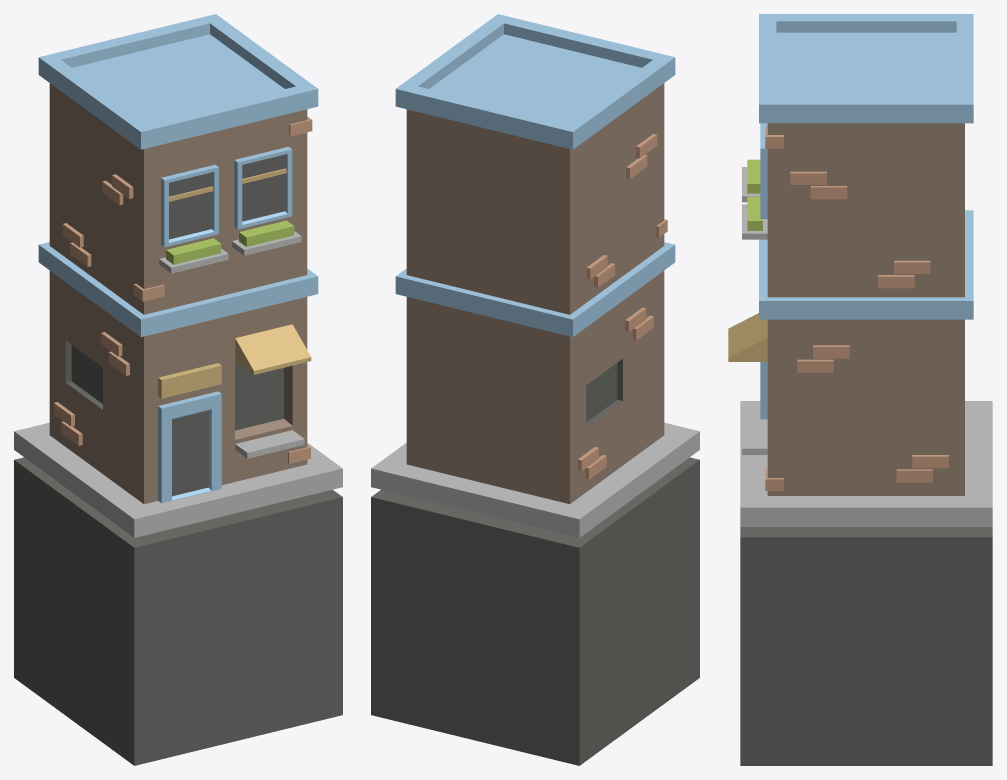
Rendered from house_Block_2F_b.fbx.
The picture shows the model from 3 angles, left to right: view 1: azimuth 30°, elevation 25°; view 2: azimuth 150°, elevation 25°; view 3: azimuth 270°, elevation 25°; orthographic projection. The views are drawn at different scales.
Parts seen in each view (by area): view 1: floor_base, polySurface6, polySurface34, house3, house, house2, polySurface4, polySurface44, polySurface35, polySurface8, polySurface5, polySurface9 (+4 smaller); view 2: floor_base, polySurface6, polySurface34, house3, house, house2; view 3: floor_base, polySurface6, polySurface34, house3, house, house2, polySurface8, polySurface9, polySurface44, polySurface51, polySurface50, polySurface53 (+8 smaller).
Part boxes in pixels (<box>): floor_base: <box>14,457,342,765</box>; polySurface6: <box>49,271,307,504</box>; polySurface34: <box>49,83,307,314</box>; house3: <box>38,14,318,149</box>; house: <box>14,422,342,537</box>; house2: <box>38,242,318,336</box>; polySurface4: <box>158,391,221,503</box>; polySurface44: <box>234,146,292,229</box>; polySurface35: <box>161,164,218,247</box>; polySurface8: <box>235,324,311,374</box>; polySurface5: <box>158,363,221,398</box>; polySurface9: <box>235,430,304,458</box>; floor_base: <box>371,457,699,765</box>; polySurface6: <box>406,271,664,504</box>; polySurface34: <box>406,83,664,314</box>; house3: <box>395,14,675,149</box>; house: <box>371,422,699,537</box>; house2: <box>395,242,675,336</box>; floor_base: <box>740,527,992,765</box>; polySurface6: <box>767,319,964,495</box>; polySurface34: <box>767,123,964,297</box>; house3: <box>759,14,973,123</box>; house: <box>740,401,992,526</box>; house2: <box>759,210,973,319</box>; polySurface8: <box>728,313,767,361</box>; polySurface9: <box>742,419,767,454</box>; polySurface44: <box>760,123,767,218</box>; polySurface51: <box>810,186,847,199</box>; polySurface50: <box>790,171,826,184</box>; polySurface53: <box>878,275,914,288</box>.
Size of the model in its own units: 5 by 14.29 by 5.23.
